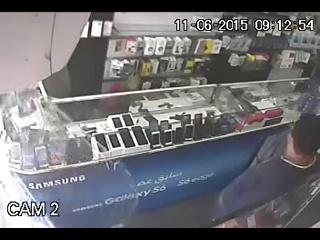Normal: (213, 111, 320, 225)
